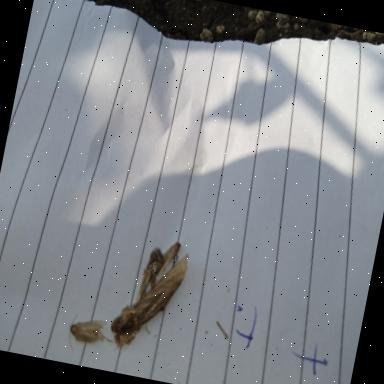pbw: (131, 244, 192, 334), (65, 313, 118, 358), (152, 238, 182, 279)
